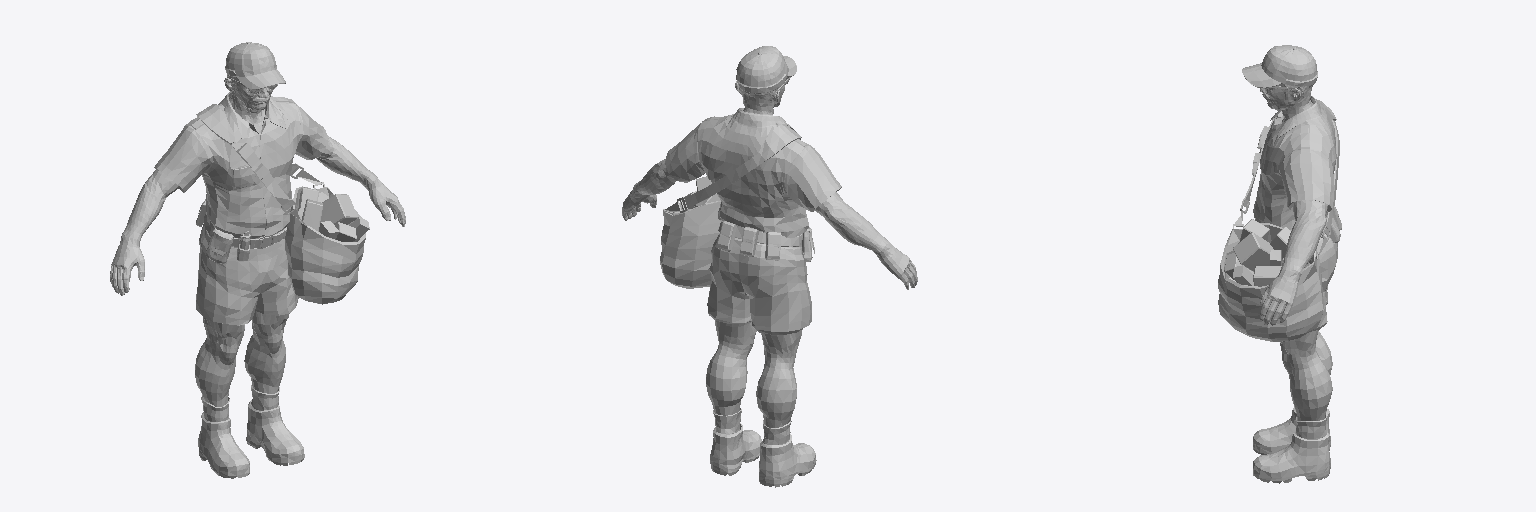
The model's file is Carl Schliff.obj.
3 views of the same model, side by side, from view 1: azimuth 30°, elevation 25°; view 2: azimuth 150°, elevation 25°; view 3: azimuth 270°, elevation 25° (orthographic).
Visible parts, largest first — view 1: Mesh_1578.rip_Tex, Mesh_1575.rip_Tex, Mesh_1576.rip_Tex, Mesh_1574.rip_Tex, Mesh_1574.rip_Tex.001, Mesh_1579.rip_Tex.001, Mesh_1579.rip_Tex, Mesh_1567.rip_Tex, Mesh_1577.rip_Tex, Mesh_1564.rip_Tex, Mesh_1564.rip_Tex.001, Mesh_1564.rip_Tex.002 (+2 smaller); view 2: Mesh_1578.rip_Tex, Mesh_1576.rip_Tex, Mesh_1575.rip_Tex, Mesh_1574.rip_Tex.001, Mesh_1574.rip_Tex, Mesh_1567.rip_Tex, Mesh_1579.rip_Tex, Mesh_1577.rip_Tex, Mesh_1579.rip_Tex.001, Mesh_1564.rip_Tex, Mesh_1564.rip_Tex.001, Mesh_1564.rip_Tex.002 (+1 smaller); view 3: Mesh_1575.rip_Tex, Mesh_1578.rip_Tex, Mesh_1574.rip_Tex.001, Mesh_1579.rip_Tex.001, Mesh_1567.rip_Tex, Mesh_1564.rip_Tex.002, Mesh_1564.rip_Tex.003, Mesh_1576.rip_Tex, Mesh_1579.rip_Tex, Mesh_1570.rip_Tex.
Boxes of the visible parts, box(x1,y1,x2,y2) form: Mesh_1578.rip_Tex: box(154, 91, 328, 238); Mesh_1575.rip_Tex: box(196, 104, 369, 304); Mesh_1576.rip_Tex: box(196, 224, 298, 421); Mesh_1574.rip_Tex: box(195, 317, 244, 406); Mesh_1574.rip_Tex.001: box(244, 311, 289, 393); Mesh_1579.rip_Tex.001: box(246, 400, 304, 465); Mesh_1579.rip_Tex: box(198, 412, 249, 478); Mesh_1567.rip_Tex: box(225, 42, 285, 89); Mesh_1577.rip_Tex: box(196, 199, 286, 263); Mesh_1564.rip_Tex: box(125, 169, 179, 235); Mesh_1564.rip_Tex.001: box(110, 230, 144, 295); Mesh_1564.rip_Tex.002: box(316, 135, 370, 182); Mesh_1578.rip_Tex: box(666, 108, 841, 237); Mesh_1576.rip_Tex: box(707, 234, 811, 444); Mesh_1575.rip_Tex: box(660, 124, 801, 288); Mesh_1574.rip_Tex.001: box(706, 319, 756, 415); Mesh_1574.rip_Tex: box(756, 329, 802, 427); Mesh_1567.rip_Tex: box(736, 46, 796, 93); Mesh_1579.rip_Tex: box(759, 434, 816, 487); Mesh_1577.rip_Tex: box(717, 221, 814, 261); Mesh_1579.rip_Tex.001: box(710, 423, 761, 475); Mesh_1564.rip_Tex: box(814, 192, 882, 250); Mesh_1564.rip_Tex.001: box(873, 237, 917, 289); Mesh_1564.rip_Tex.002: box(636, 159, 675, 194); Mesh_1575.rip_Tex: box(1218, 99, 1339, 341); Mesh_1578.rip_Tex: box(1253, 96, 1336, 230); Mesh_1574.rip_Tex.001: box(1280, 330, 1332, 420); Mesh_1579.rip_Tex.001: box(1253, 431, 1330, 483); Mesh_1567.rip_Tex: box(1242, 45, 1317, 87); Mesh_1564.rip_Tex.002: box(1284, 200, 1327, 268); Mesh_1564.rip_Tex.003: box(1260, 263, 1302, 325); Mesh_1576.rip_Tex: box(1295, 234, 1337, 439); Mesh_1579.rip_Tex: box(1253, 407, 1330, 454); Mesh_1570.rip_Tex: box(1260, 84, 1313, 122).
Size of the model in its own units: 1.32 by 1.82 by 0.494.